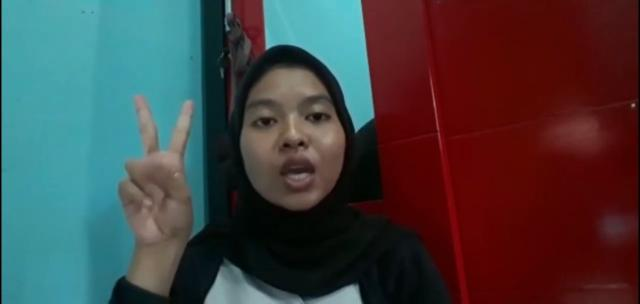V: (114, 92, 198, 246)
